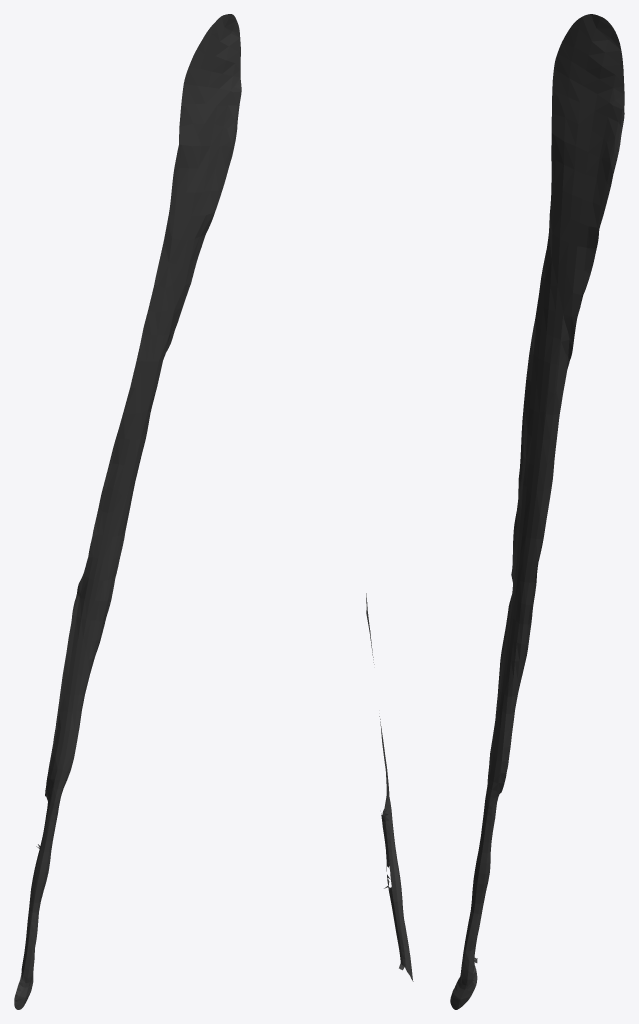
The model's file is Lateral_dig_extensor.glb.
3 views of the same model, side by side, from view 1: azimuth 30°, elevation 25°; view 2: azimuth 150°, elevation 25°; view 3: azimuth 330°, elevation 25° (orthographic). The views are drawn at different scales.
Parts seen in each view (by area): view 1: Lateral_dig_extensor; view 2: Lateral_dig_extensor; view 3: Lateral_dig_extensor.
Boxes of the visible parts, left/top/right/bottom form: Lateral_dig_extensor: left=14, top=14, right=241, bottom=1009; Lateral_dig_extensor: left=366, top=593, right=413, bottom=981; Lateral_dig_extensor: left=450, top=14, right=624, bottom=1009.
Size of the model in its own units: 0.057 by 0.2765 by 0.0257.
Materials: 1 (1 with a texture image).
